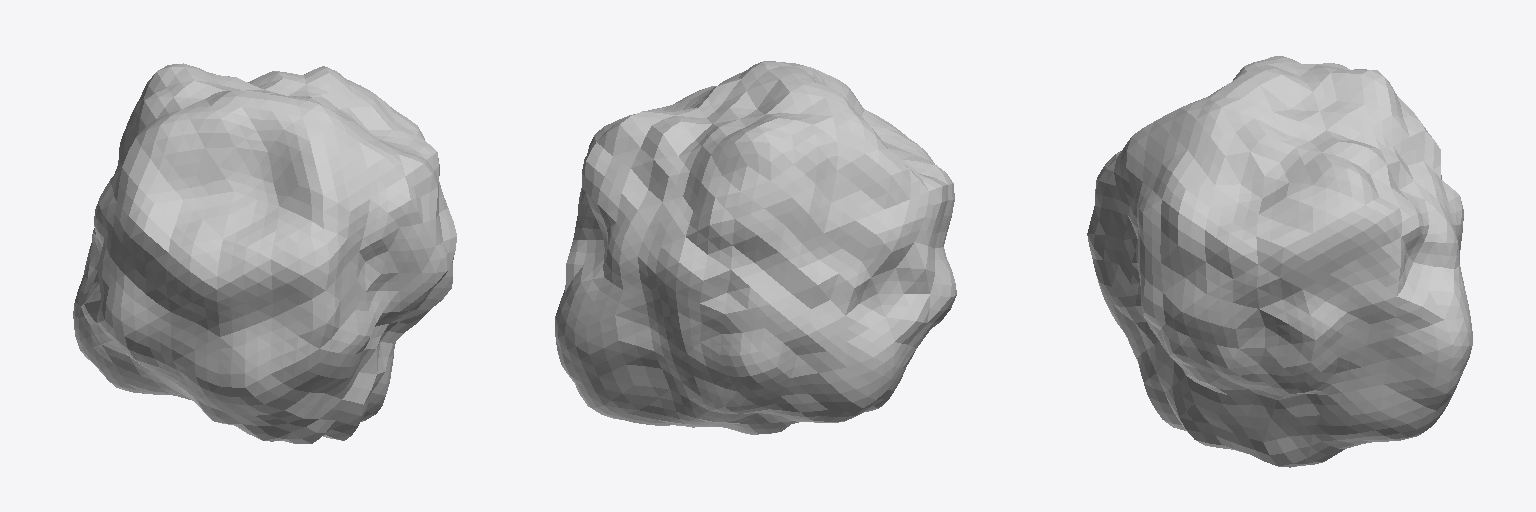
File: asteroid_4.obj
The picture shows the model from 3 angles: view 1: azimuth 30°, elevation 25°; view 2: azimuth 150°, elevation 25°; view 3: azimuth 270°, elevation 25°; orthographic projection.
Bounding box in the file's own units: 2.35 × 2.32 × 2.36.